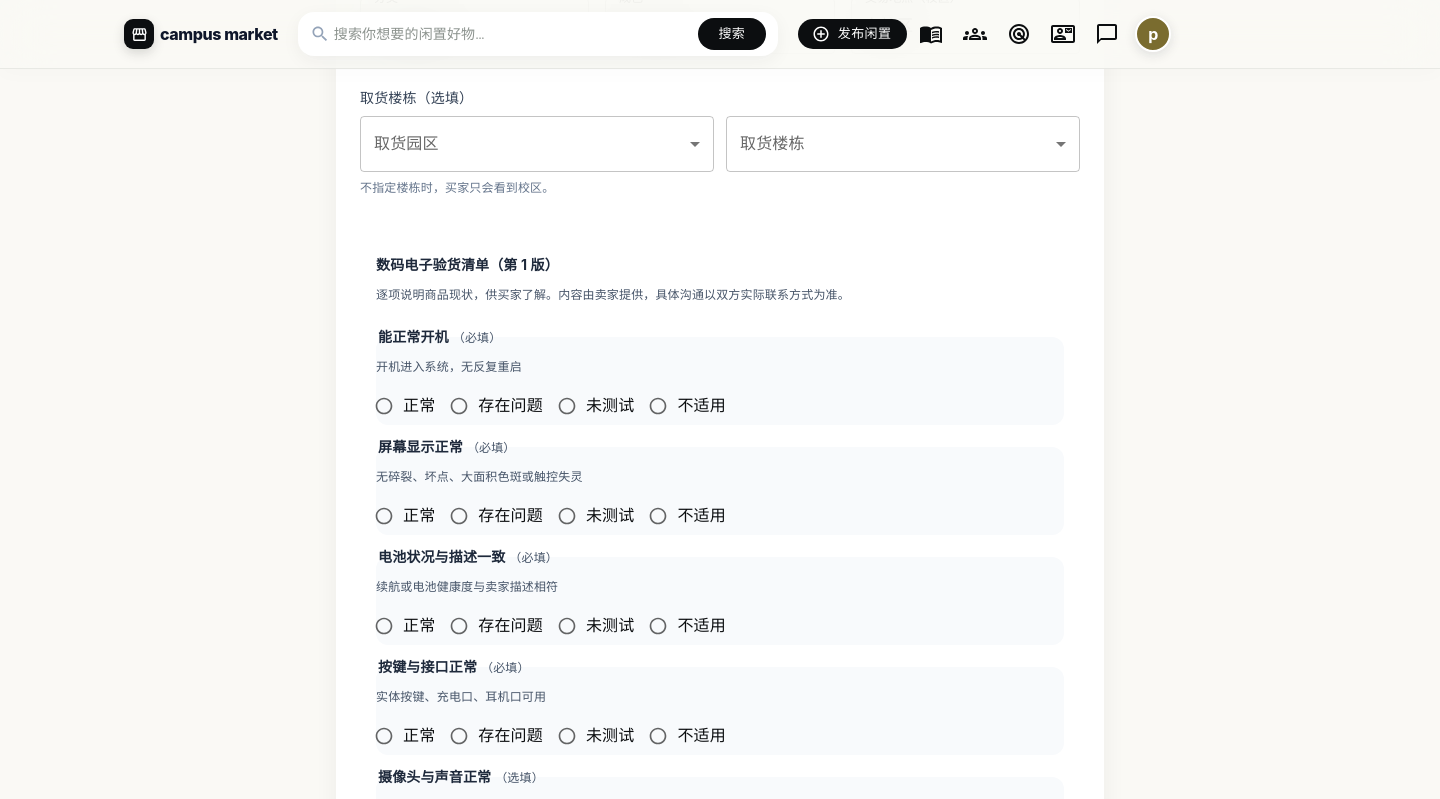
Test case: 3.2 发布页验货清单 › 1+2. 不默认勾选任何一项；模板随分类切换，旧分类的选择不会带到新分类
(page scrolled)
Expected: the heading "数码电子验货清单（第 1 版）" is shown, [376,256,559,273]
Click the radio button labelled "正常" below "开机进入系统，无反复重启" at (405, 406), box [374,396,435,416]
(page scrolled)
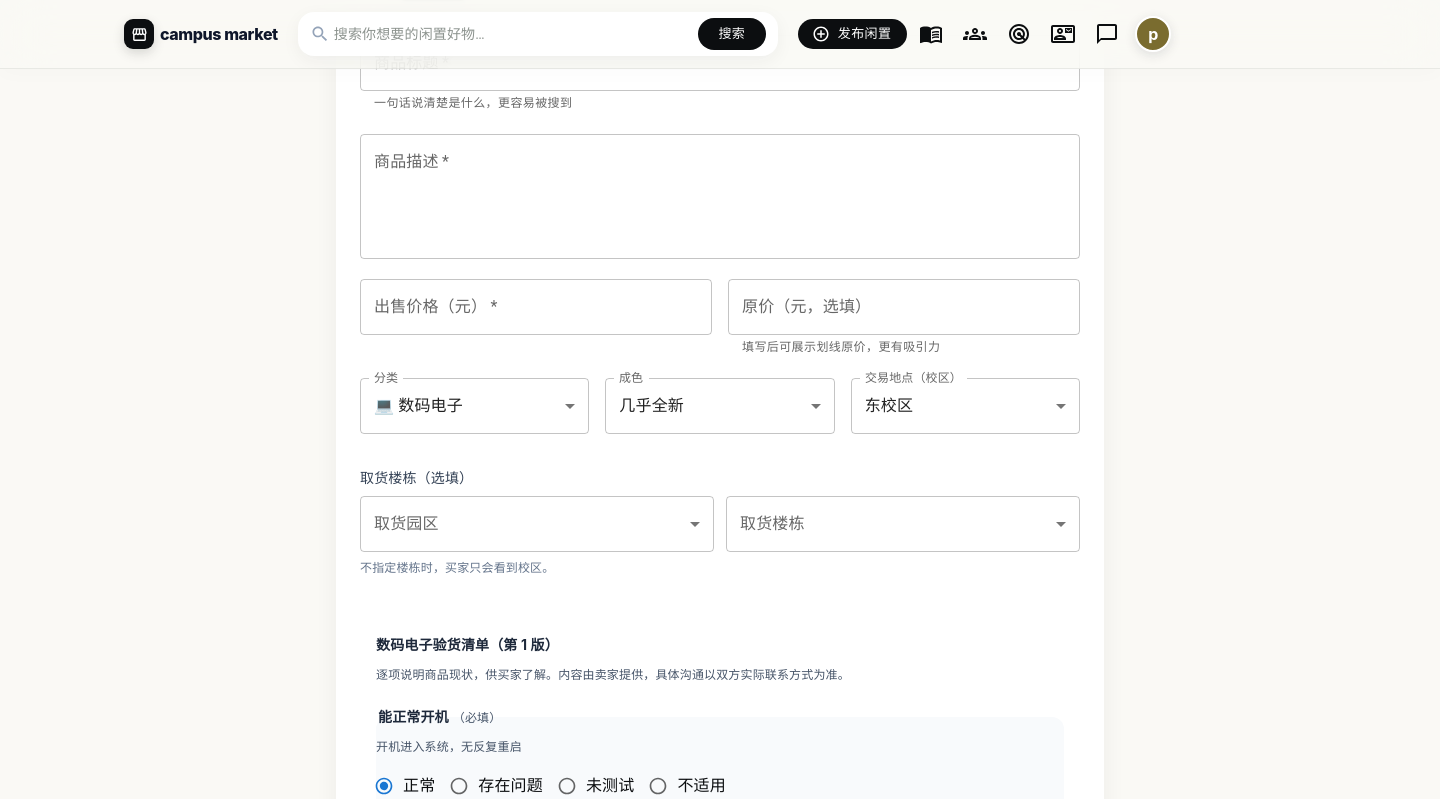
Press the mouse on the dropdown named "分类" at (418, 406), box [374,396,463,415]
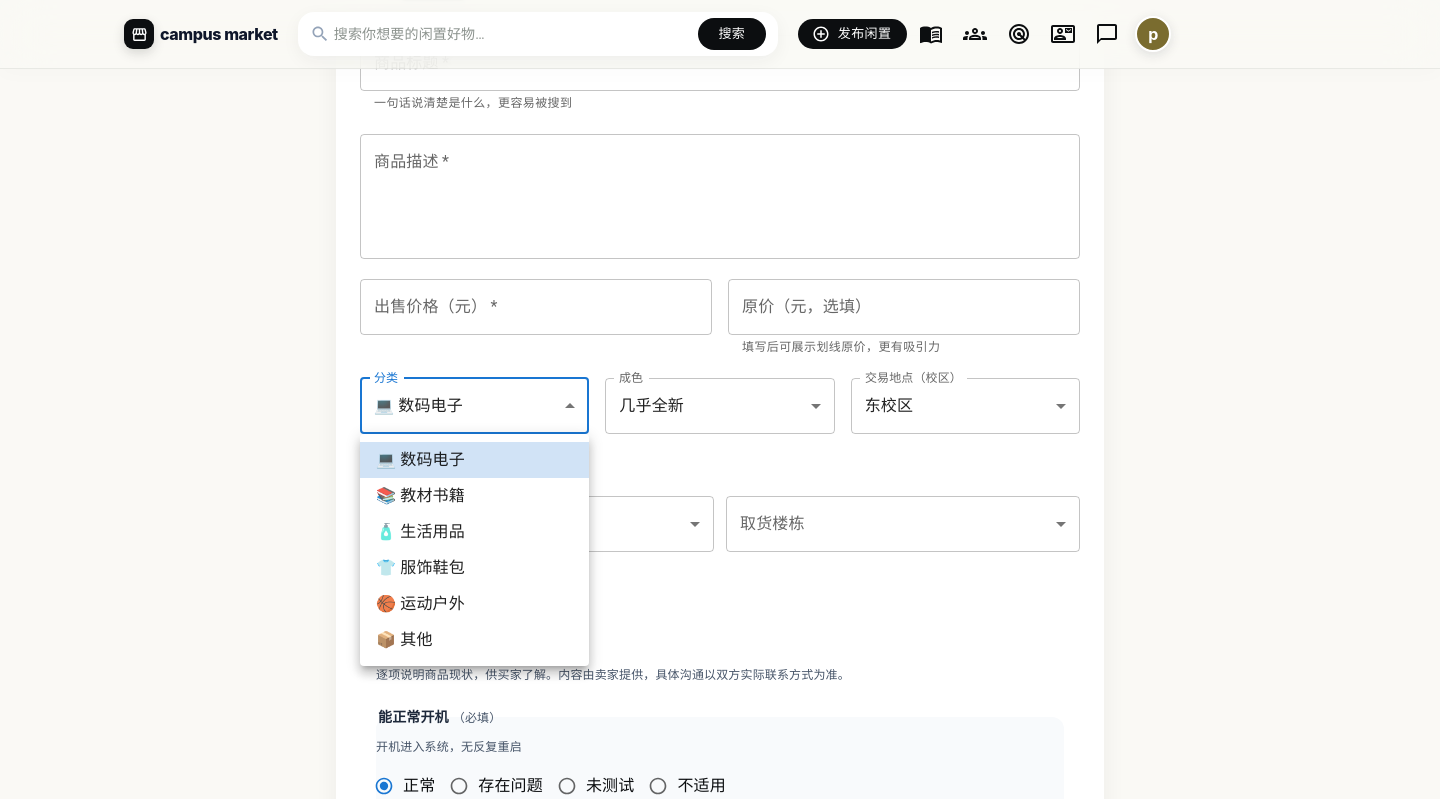
Click the option "📚 教材书籍" at (420, 496), box [376,486,465,505]
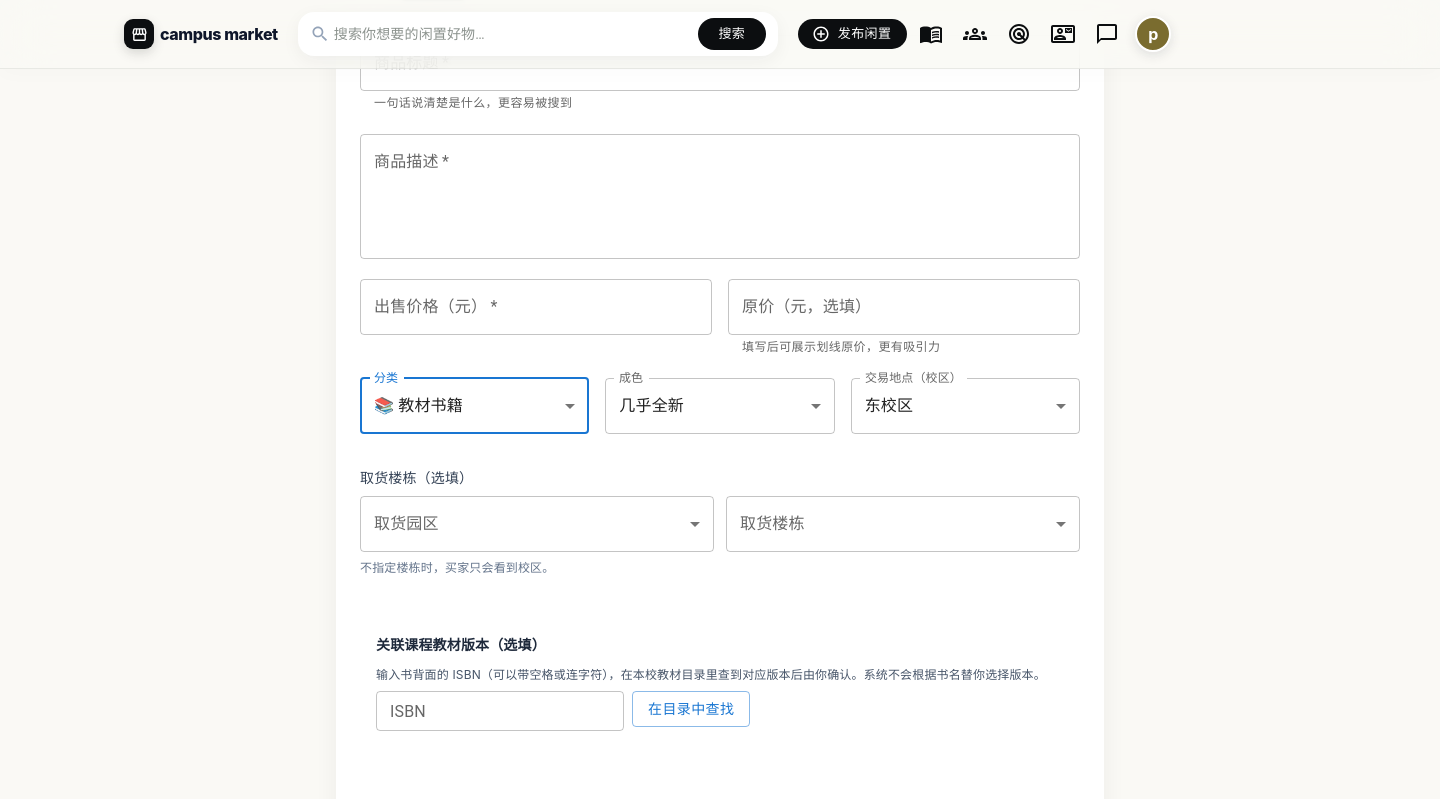
Expected: the text "能正常开机" is gone
Press the mouse on the dropdown named "分类" at (418, 406), box [374,396,463,415]
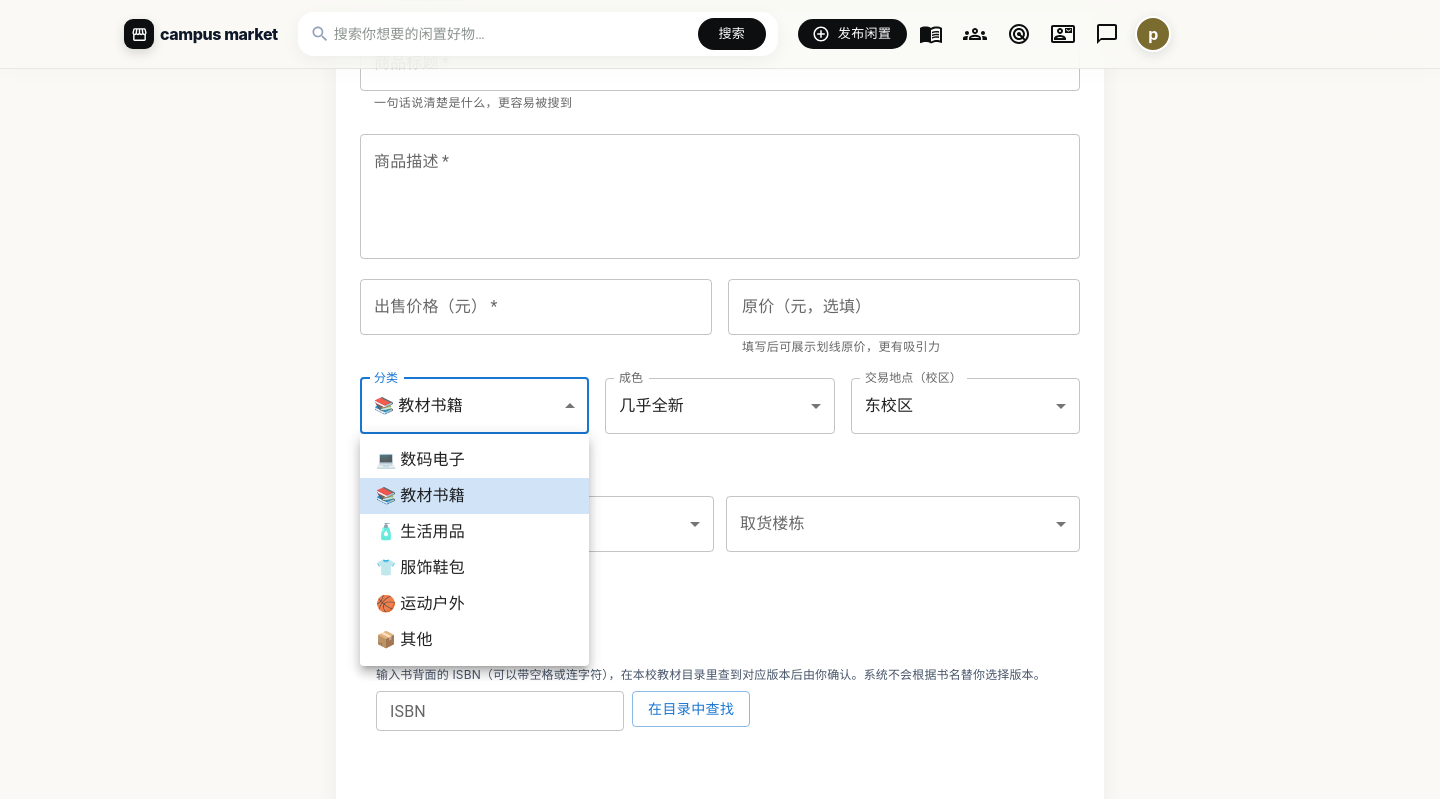
Click the option "📦 其他" at (404, 640), box [376,630,433,649]
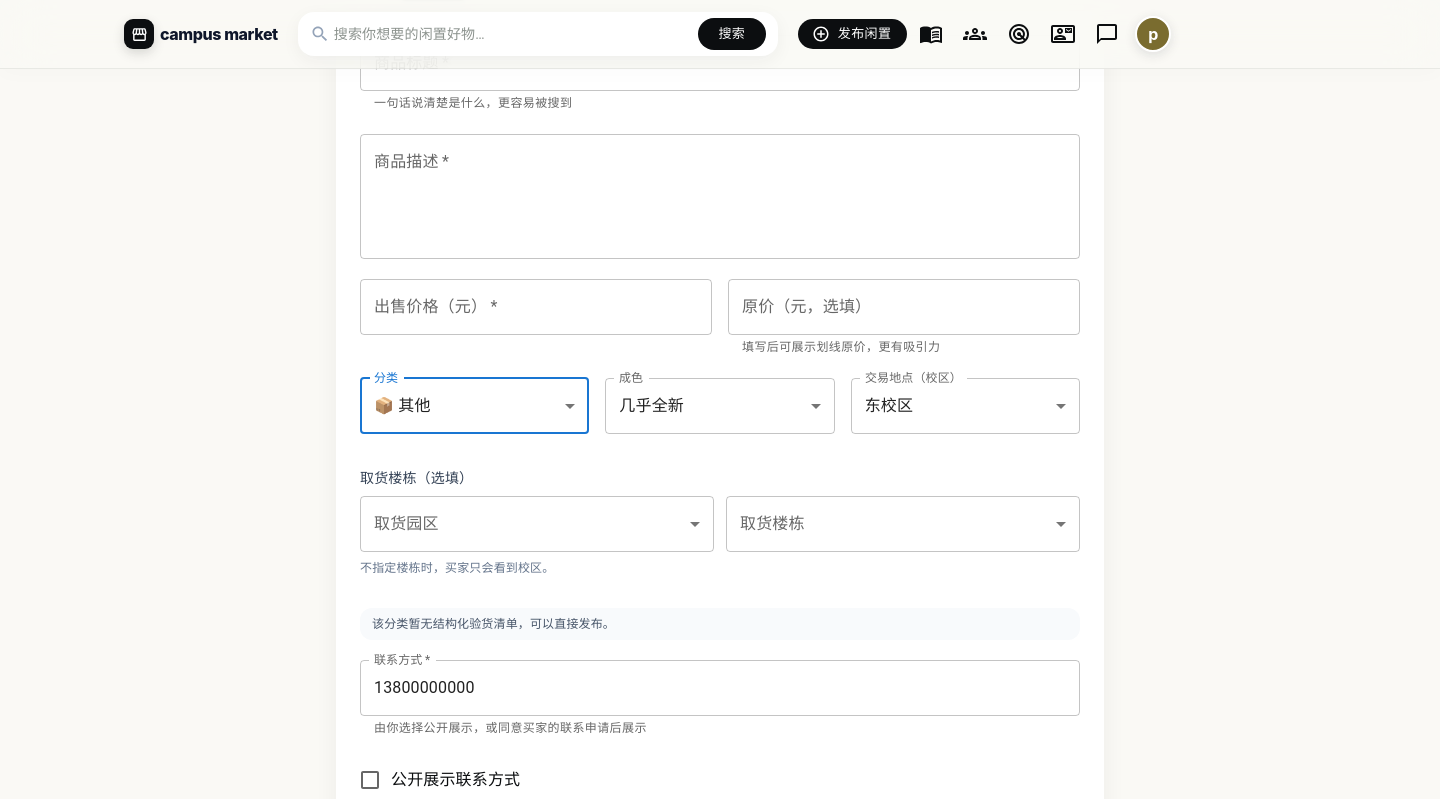
Expected: the text "该分类暂无结构化验货清单，可以直接发布。" is shown, [360,608,1080,640]
